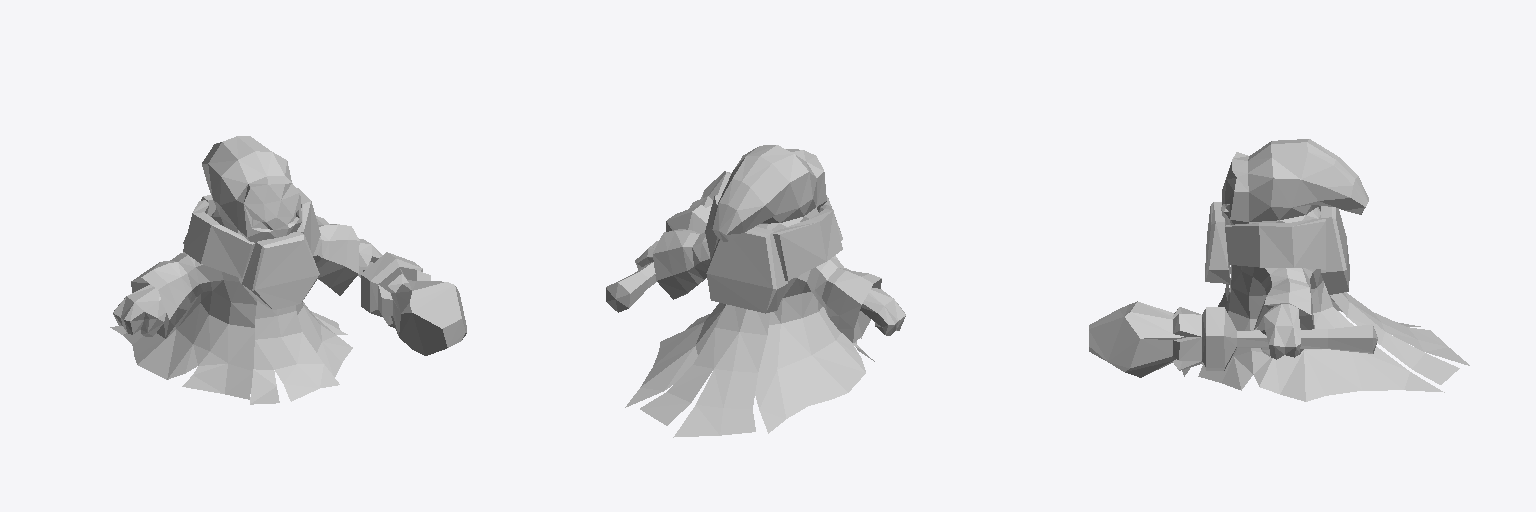
The model's file is ha_orderminion_ranged.obj.
The picture shows the model from 3 angles: view 1: azimuth 30°, elevation 25°; view 2: azimuth 150°, elevation 25°; view 3: azimuth 270°, elevation 25°; orthographic projection.
Visible parts, largest first — view 1: lolMesh_order_minion_caster; view 2: lolMesh_order_minion_caster; view 3: lolMesh_order_minion_caster.
Boxes of the visible parts, x1,y1,x2,y2 form: lolMesh_order_minion_caster: [110, 136, 466, 404]; lolMesh_order_minion_caster: [606, 145, 905, 437]; lolMesh_order_minion_caster: [1089, 139, 1469, 401].
Size of the model in its own units: 1.2 by 0.9399 by 1.47.